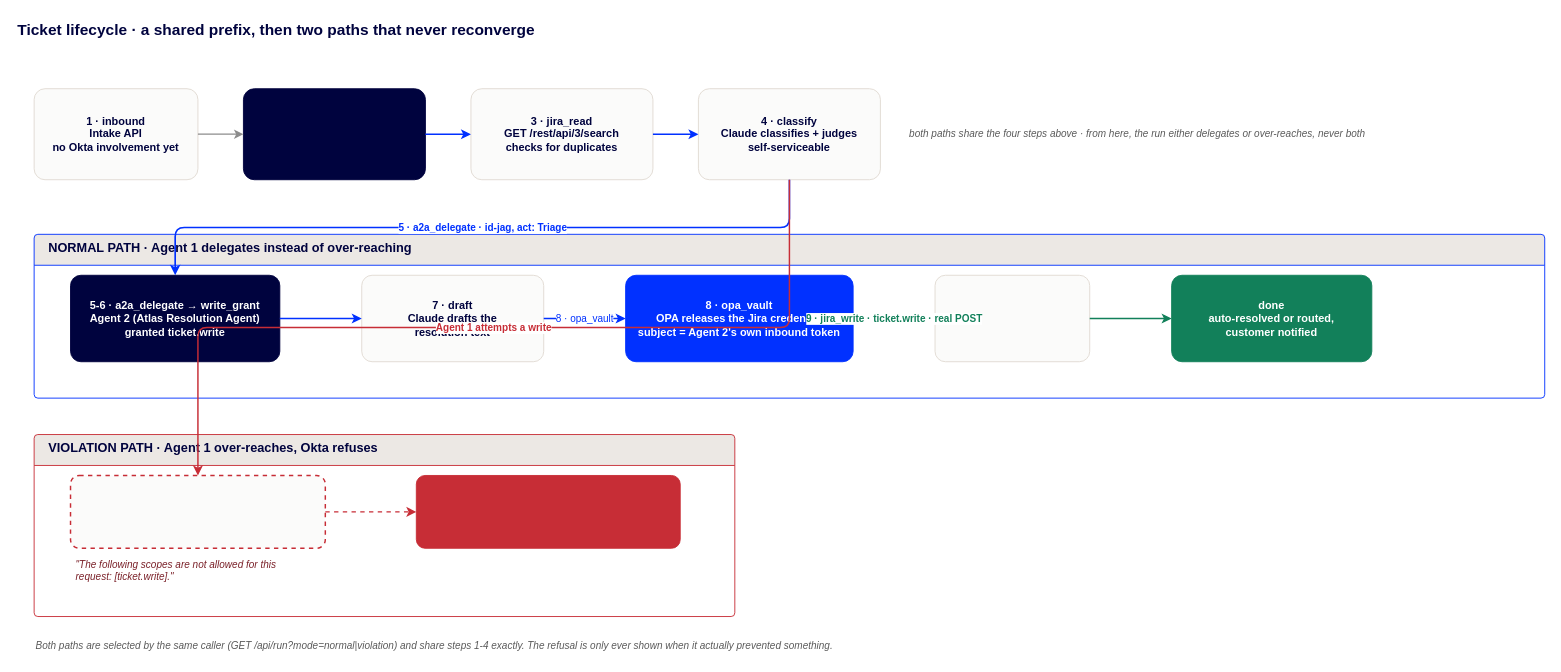
Image size: 1561x672. Some labels were removed from this diagram. Each missing label, with the box of its shape:
2 · read_grant Agent 1 (Atlas Triage Agent) granted ticket.read: (243, 88, 425, 180)
5 · write_denied ✗ Agent 1 asks Okta for ticket.write 400 invalid_scope: (69, 474, 326, 549)
6 · blocked nothing written to Jira Agent 2, the vault, and Jira stay dark: (415, 475, 680, 548)
Jira Cloud: (934, 274, 1090, 362)
